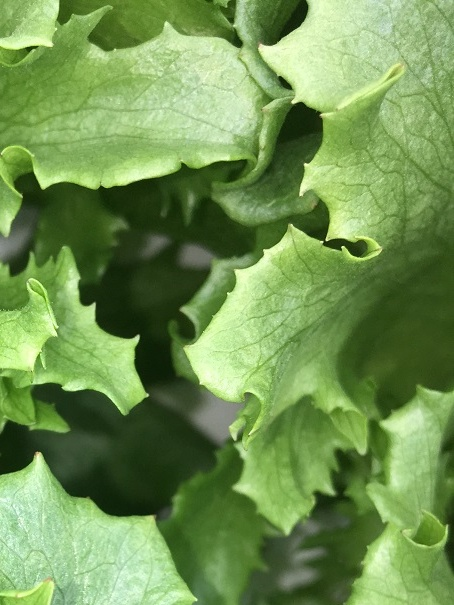tipburn: (37, 572, 56, 590), (371, 241, 387, 258), (29, 447, 48, 461), (396, 524, 411, 541), (253, 39, 268, 55), (394, 59, 409, 75), (145, 509, 159, 525), (23, 362, 39, 376), (10, 589, 24, 603), (257, 103, 271, 117), (294, 186, 308, 199), (240, 439, 251, 455), (255, 144, 268, 157)
